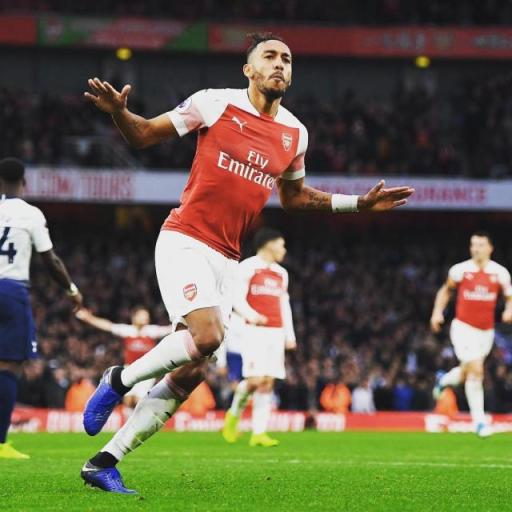Emirates: (215, 146, 277, 190)
